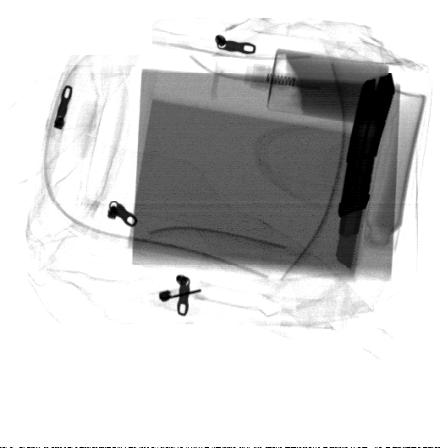Knife: (335, 73, 396, 272)
